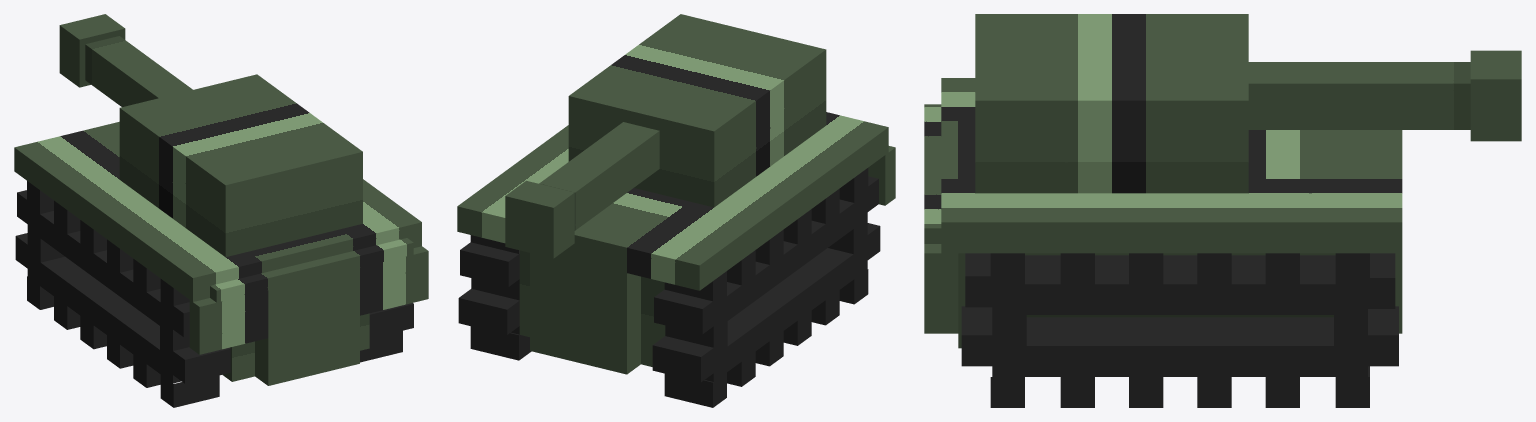
The model's file is tank.gltf.
The picture shows the model from 3 angles, left to right: view 1: azimuth 30°, elevation 25°; view 2: azimuth 150°, elevation 25°; view 3: azimuth 270°, elevation 25°; orthographic projection. The views are drawn at different scales.
Visible parts, largest first — view 1: cube (×30); view 2: cube (×31); view 3: cube (×28).
Part boxes in pixels (x1,y1,x2,y2): cube (×30): (14, 14, 428, 407); cube (×31): (457, 14, 895, 407); cube (×28): (924, 14, 1521, 407).
Size of what is drawn, in the model's own units: 0.625 by 0.5625 by 1.09.
3 materials, 3 textured.
